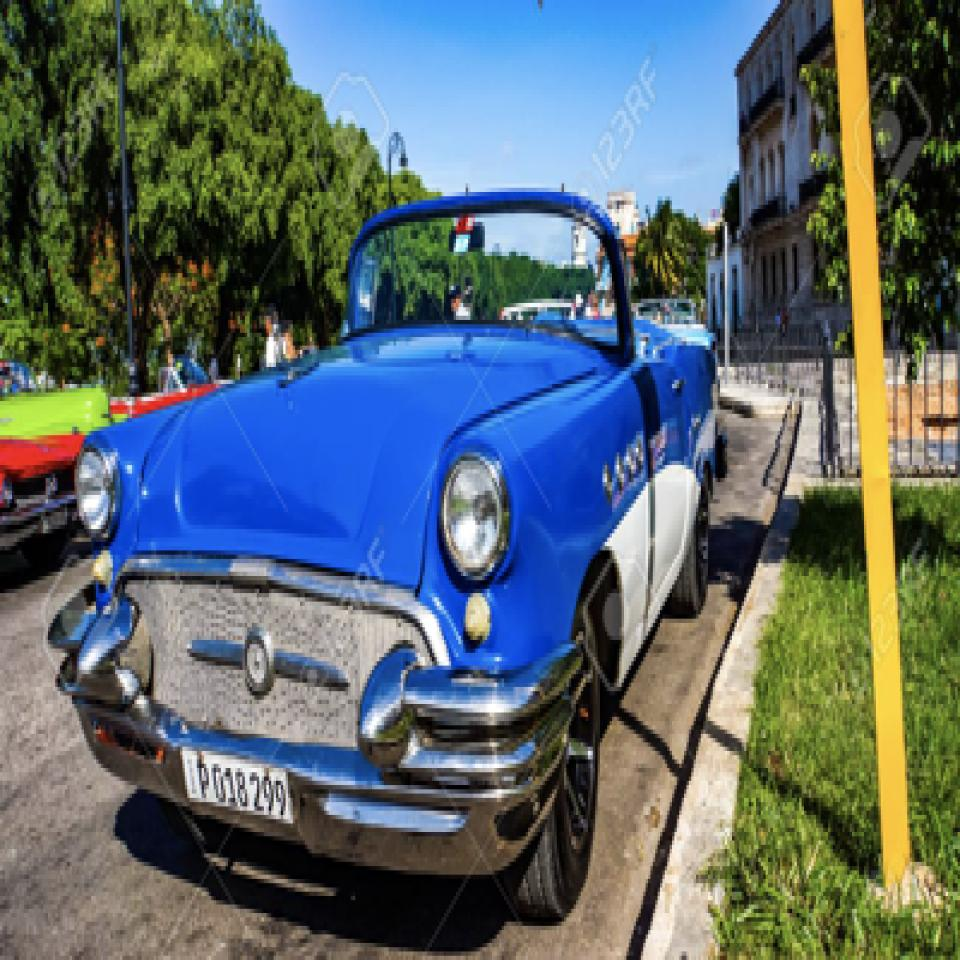licence: (178, 734, 298, 828)
